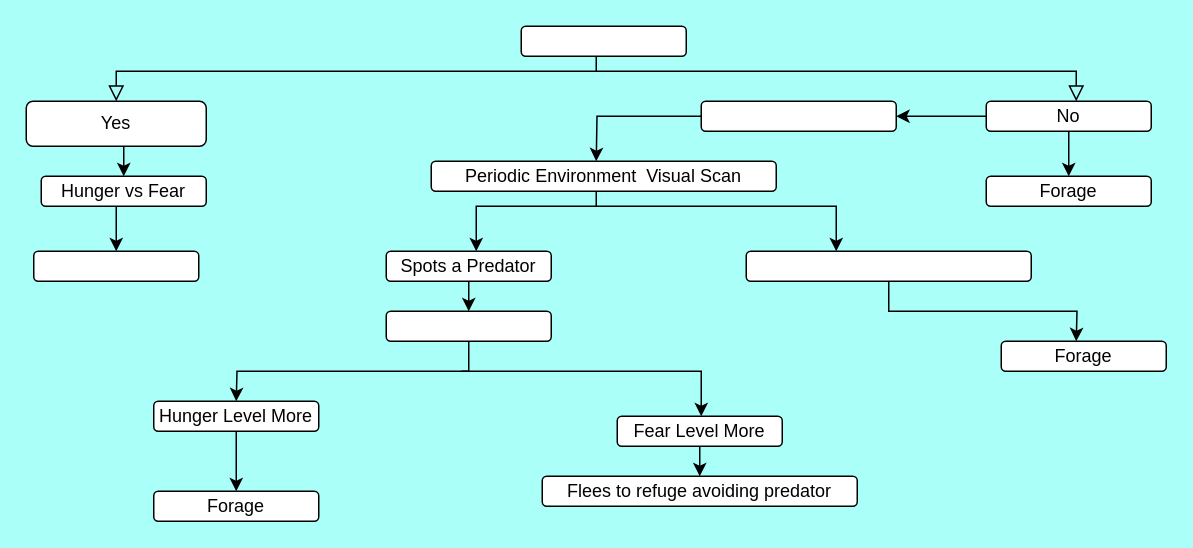
The diagram is 1193 pixels wide and 548 high, and some of its shapes have lost their labels. Each missing label, with the centre of its shape:
"At a certain interval" belongs at point (798, 115).
"Check Alarm Call" belongs at point (603, 40).
"Doesn't Spots a Predator" belongs at point (888, 265).
"Forage or Flee" belongs at point (115, 265).
"Gives Alarm Call" belongs at point (468, 325).
